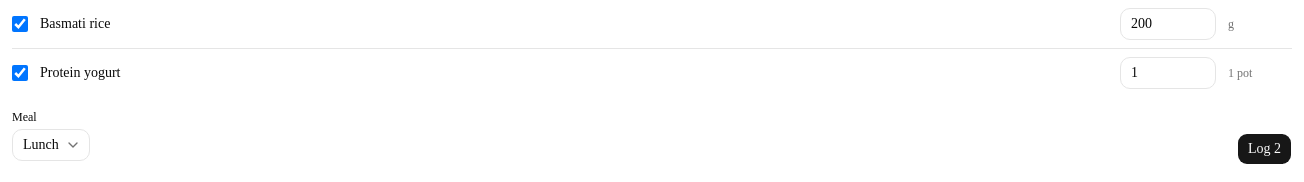
Test: LogSavedMealForm — a template, not a prescription (§12F) › cannot log with nothing ticked
Step 1. Click the checkbox labelled "Basmati rice" → (20, 24), box [12,16,28,32]
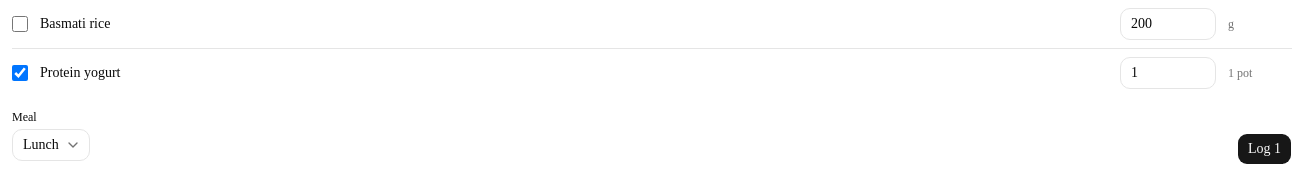
Step 2. Click the checkbox labelled "Protein yogurt" → (20, 73), box [12,65,28,81]
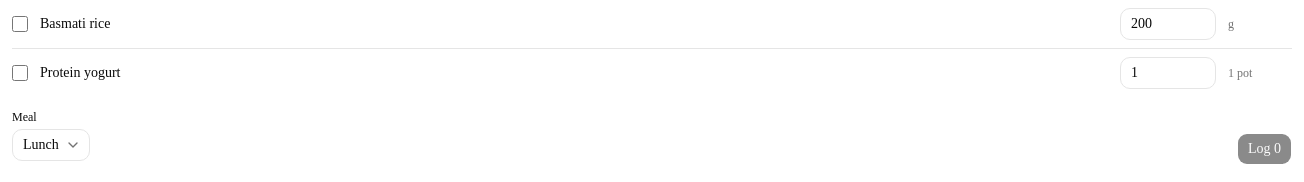
Expected: the button "Log 0" is disabled, [1237,133,1292,165]
